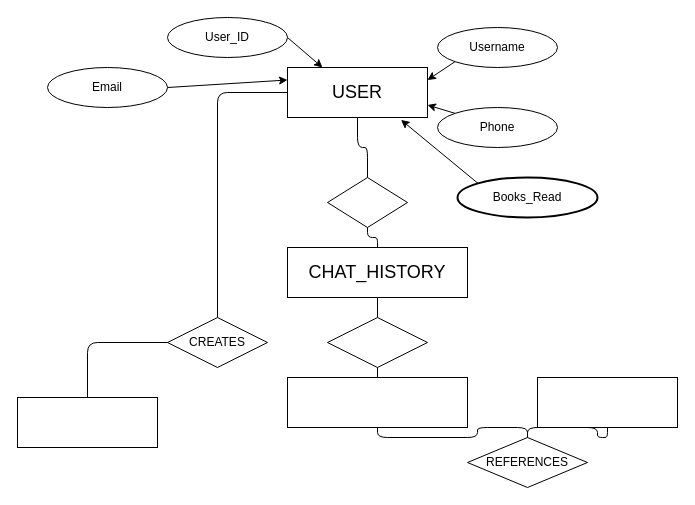
This 695x505 diagram has some shape labels left out. The box of each missing label's shape, as (x1, y1, x2, y2) in pixels:
CHAT_MESSAGE: (286, 376, 468, 428)
CONTAINS: (326, 316, 428, 368)
HAS: (326, 176, 408, 228)
SESSION: (16, 396, 158, 448)
SOURCE: (536, 376, 678, 428)
